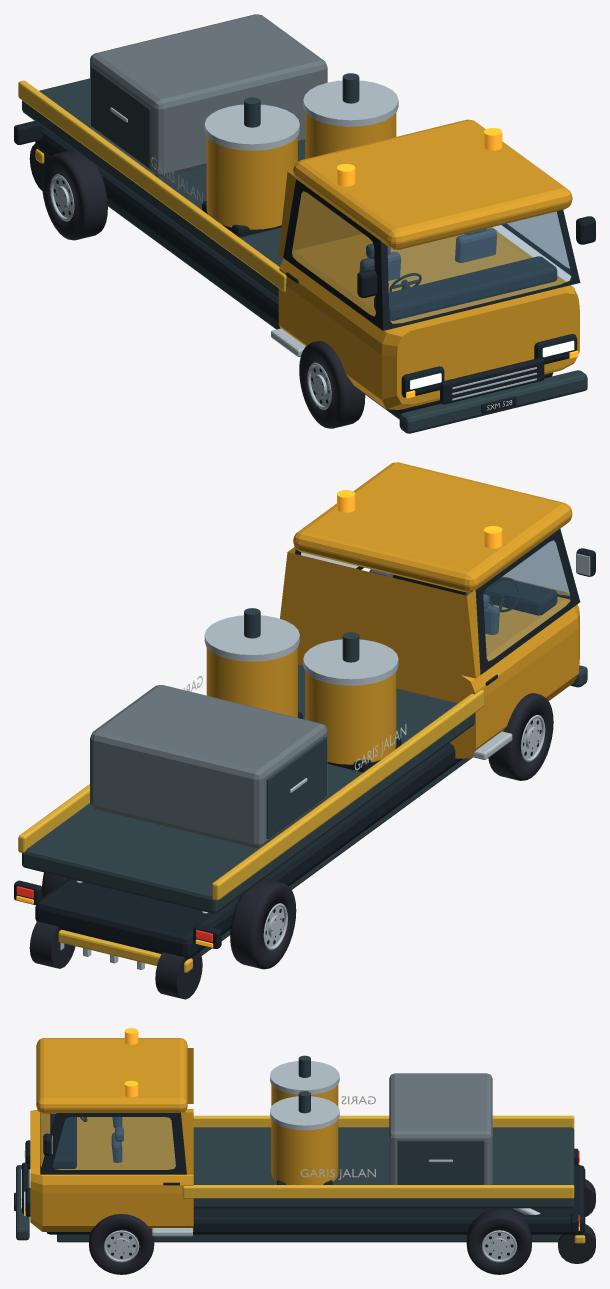
3 renders of one model, top to bottom at view 1: azimuth 30°, elevation 25°; view 2: azimuth 150°, elevation 25°; view 3: azimuth 270°, elevation 25°, orthographic. The views are drawn at different scales.
Parts seen in each view (by area): view 1: Seri Road Line Marking Lorry; view 2: Seri Road Line Marking Lorry; view 3: Seri Road Line Marking Lorry.
Part boxes in pixels (box(x1,y1,x2,y2)): Seri Road Line Marking Lorry: box(14, 14, 595, 433); Seri Road Line Marking Lorry: box(14, 462, 595, 999); Seri Road Line Marking Lorry: box(14, 1028, 595, 1274).
Bounding box in the file's own units: 2.63 × 2.62 × 7.65.
